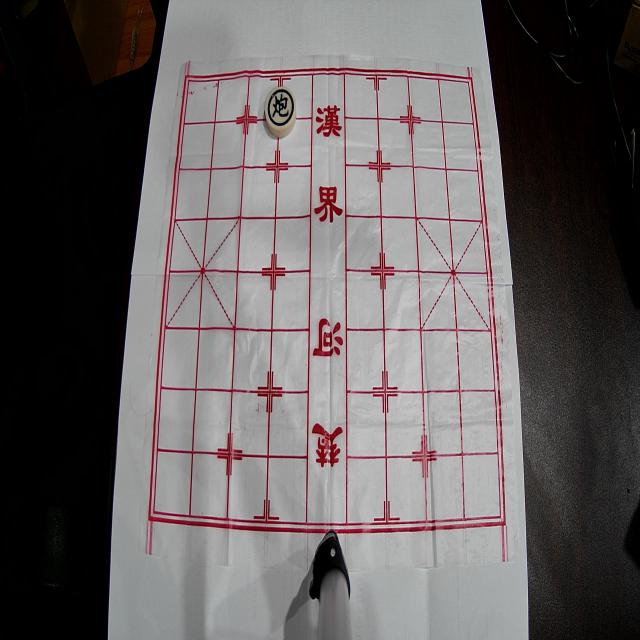black-cannon: (266, 86, 296, 138)
